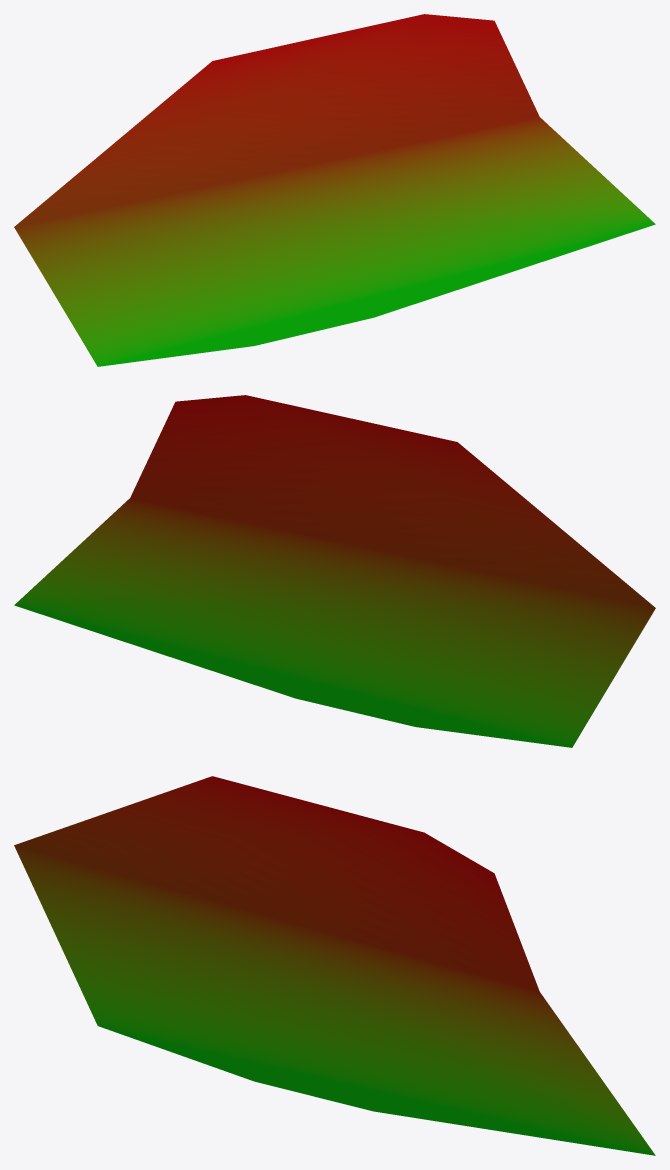
File: Var4_LOD4.fbx
3 views of the same model, one above another, from view 1: azimuth 30°, elevation 25°; view 2: azimuth 150°, elevation 25°; view 3: azimuth 330°, elevation 25° (orthographic).
Visible parts, largest first — view 1: _alpb_Var4_LOD4; view 2: _alpb_Var4_LOD4; view 3: _alpb_Var4_LOD4.
Boxes of the visible parts, x1=… form: _alpb_Var4_LOD4: x1=14, y1=14, x2=655, y2=366; _alpb_Var4_LOD4: x1=14, y1=395, x2=655, y2=747; _alpb_Var4_LOD4: x1=14, y1=776, x2=655, y2=1155.
Bounding box in the file's own units: 41.11 × 18.11 × 7.92e-07.
